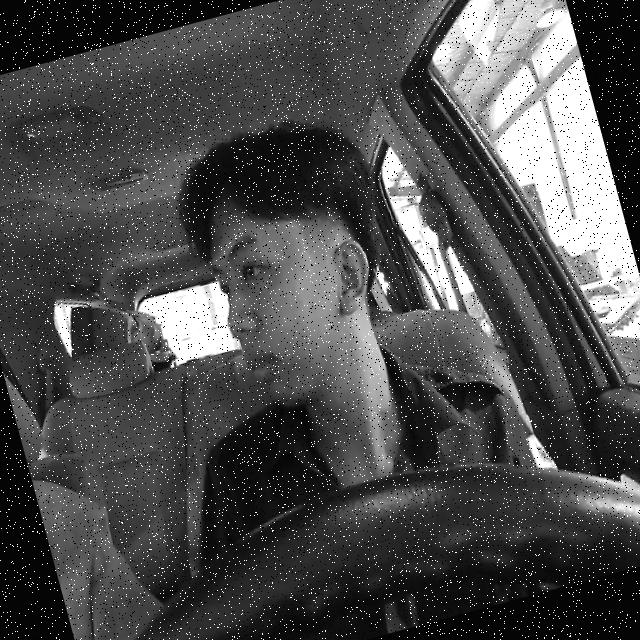seeing_left: (194, 166, 399, 420)
